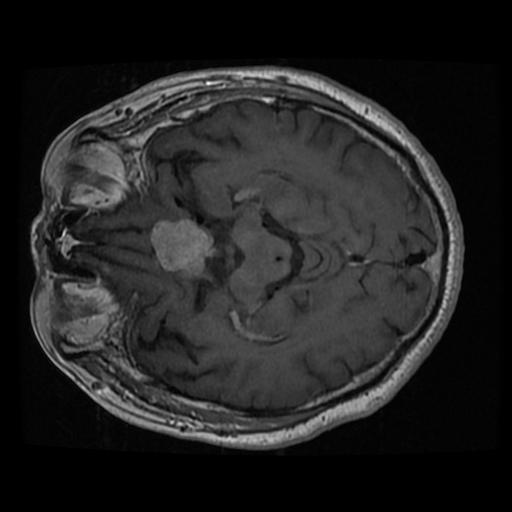pituitary tumour: (149, 219, 214, 273)
